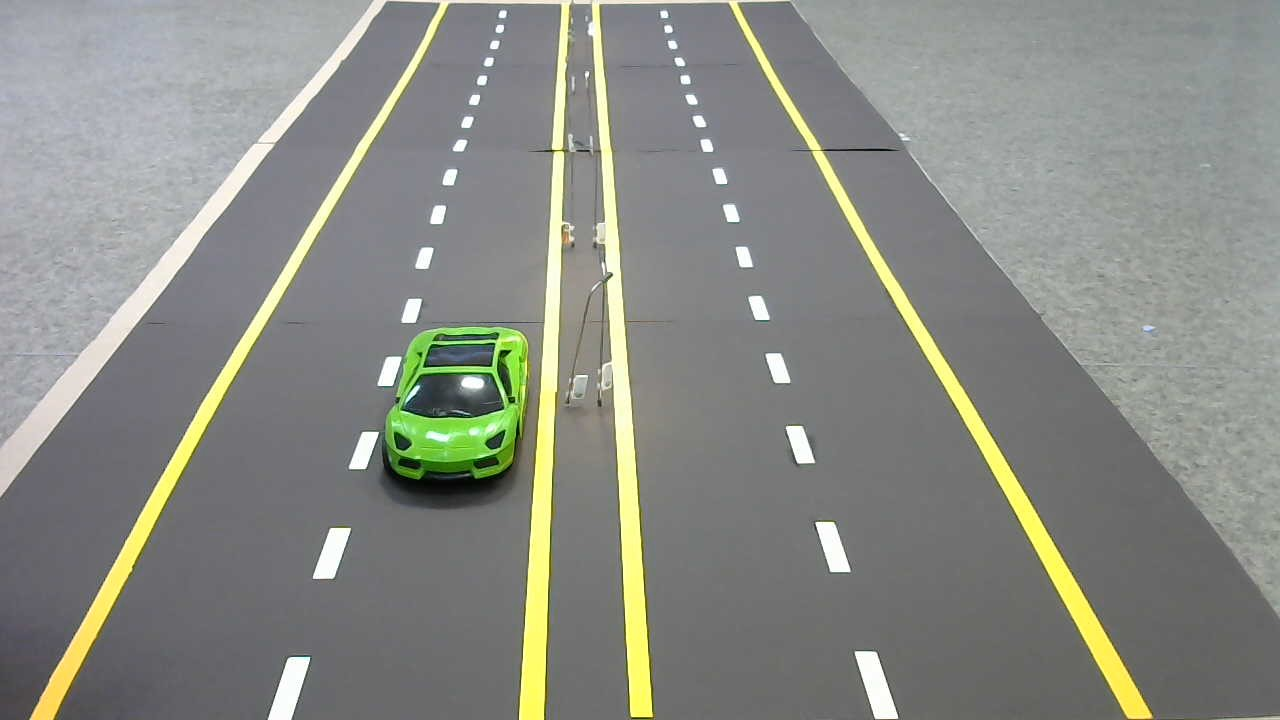front_car: (377, 318, 532, 493)
